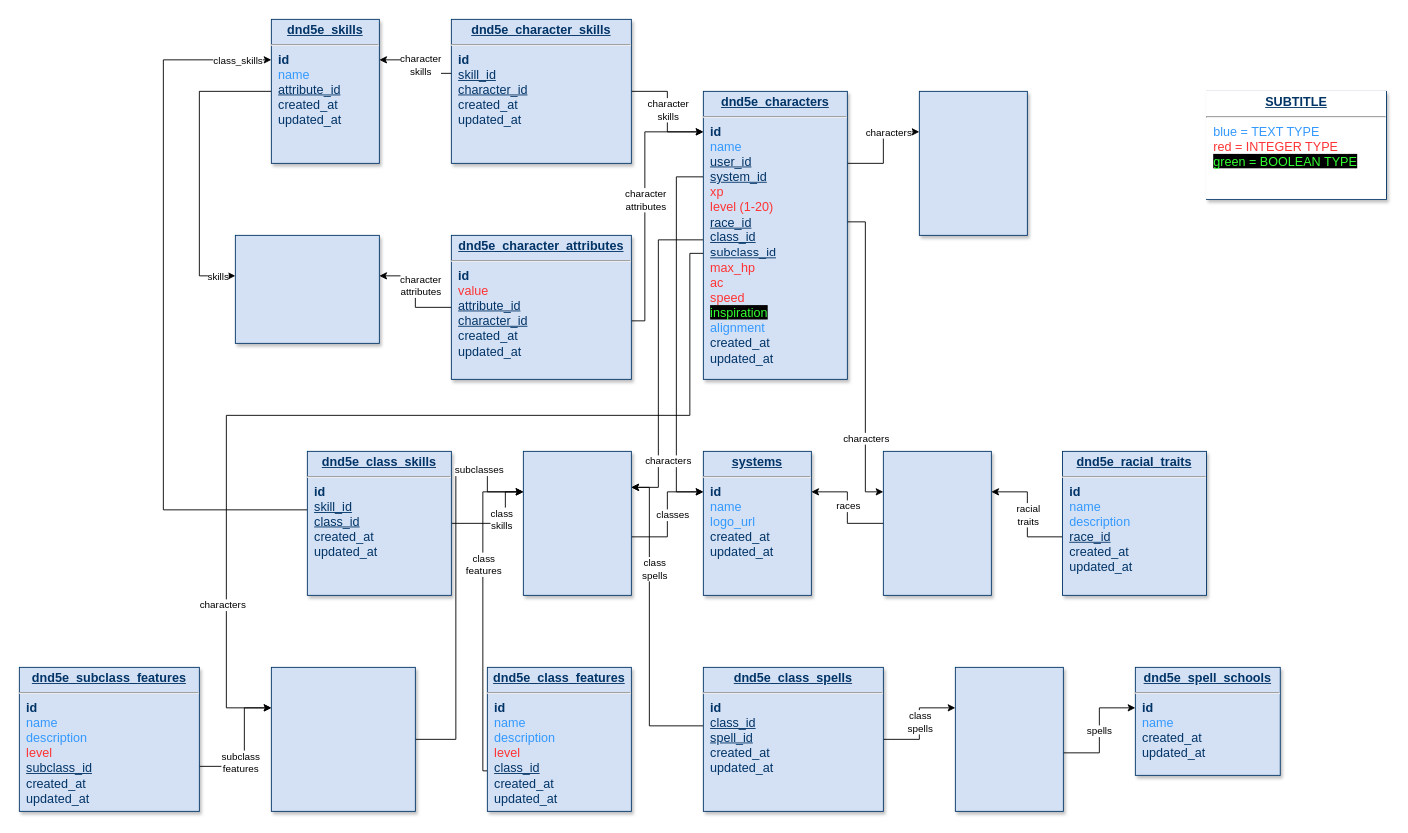
This 1408x833 diagram has some shape labels left out. Each missing label, with the centre of its shape:
dnd5e_attributes id name created_at updated_at: the point at 308,290
dnd5e_classes id name description system_id hit_dice created_at updated_at: the point at 578,524
dnd5e_races id name system_id created_at updated_at: the point at 938,524
dnd5e_spells id name level (0-9) school_id created_at updated_at: the point at 1010,740
dnd5e_subclasses id name description class_id created_at updated_at: the point at 344,740
user id email username image_url password created_at updated_at: the point at 974,164
